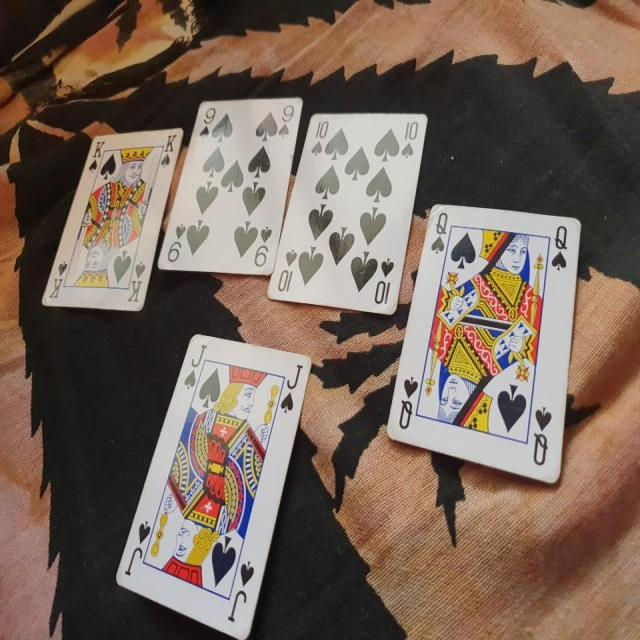10 of spades: (264, 114, 433, 312)
9 of spades: (154, 90, 308, 282)
jack of spades: (110, 326, 314, 630)
king of spades: (42, 126, 188, 316)
queen of spades: (380, 200, 586, 500)
